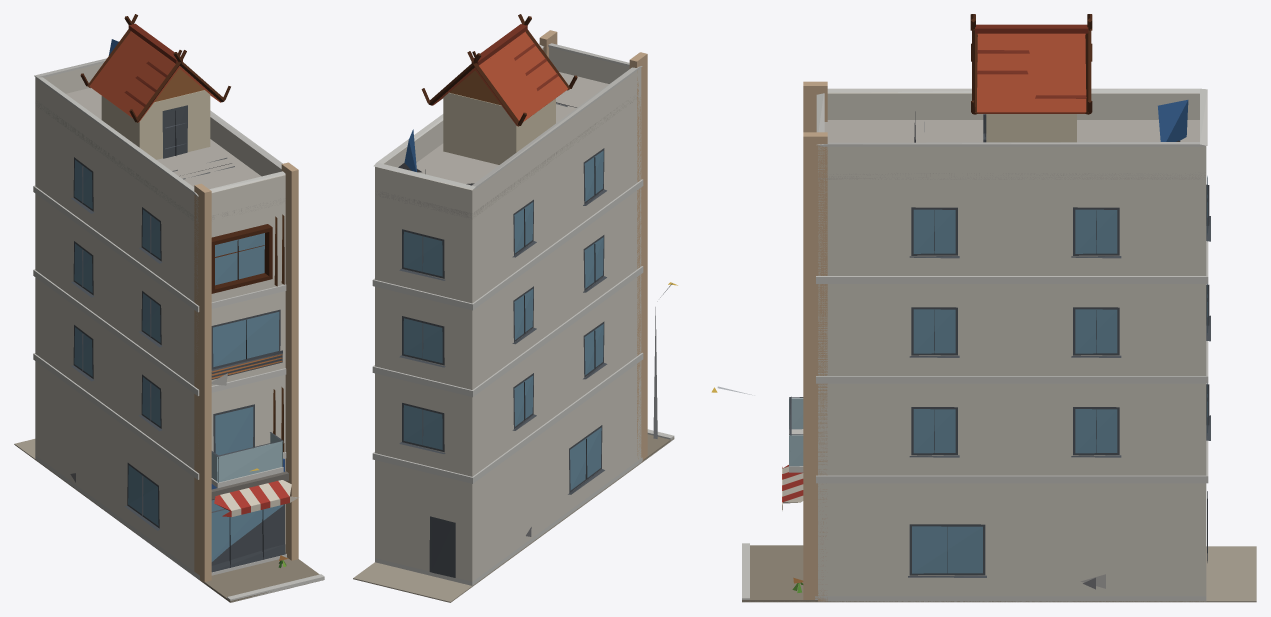
The model's file is bay2_one.glb.
3 views of the same model, side by side, from view 1: azimuth 30°, elevation 25°; view 2: azimuth 150°, elevation 25°; view 3: azimuth 270°, elevation 25° (orthographic). The views are drawn at different scales.
Parts seen in each view (by area): view 1: body; view 2: body; view 3: body.
Boxes of the visible parts, x1=… form: body: x1=14, y1=14, x2=324, y2=602; body: x1=353, y1=14, x2=674, y2=602; body: x1=717, y1=14, x2=1256, y2=602.
Bounding box in the file's own units: 4.71 × 19.33 × 16.88.
